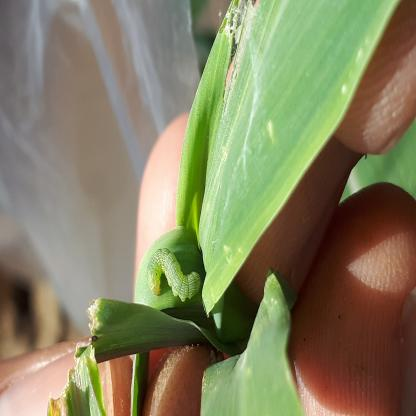armyworm: (67, 261, 95, 356)
